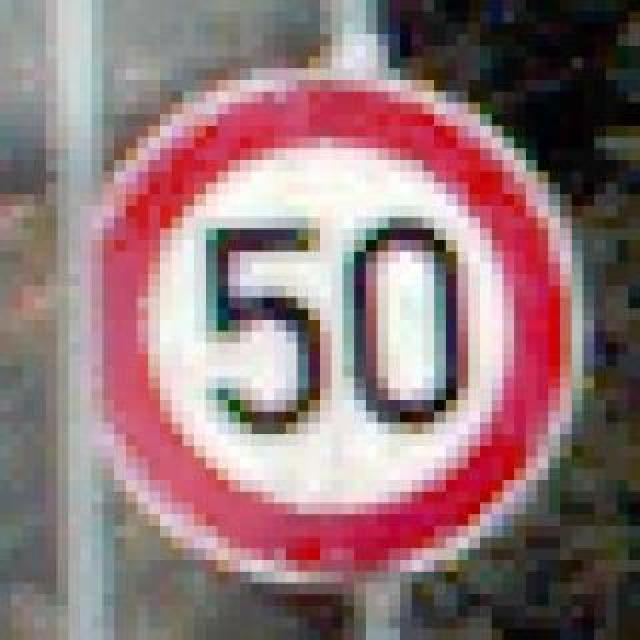50 kph: (46, 58, 570, 584)
